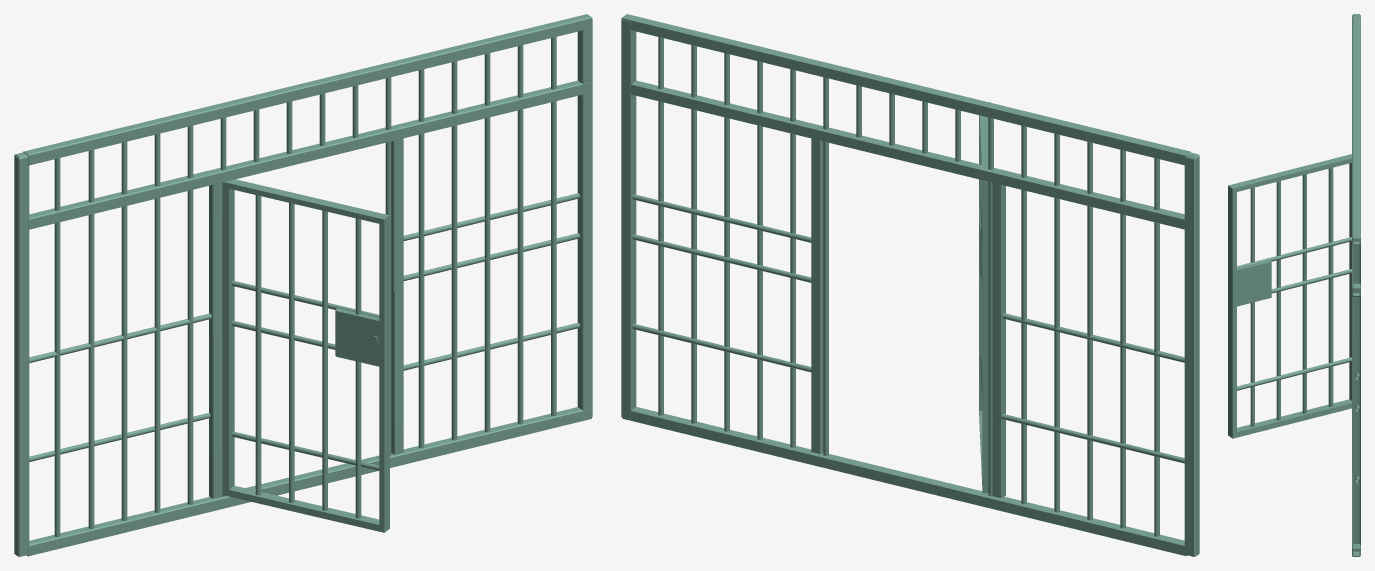
The model's file is SetopolySurface70.fbx.
3 renders of one model, left to right at view 1: azimuth 30°, elevation 25°; view 2: azimuth 150°, elevation 25°; view 3: azimuth 270°, elevation 25°, orthographic. The views are drawn at different scales.
Visible parts, largest first — view 1: polySurface70, CellDoor1; view 2: polySurface70, CellDoor1; view 3: CellDoor1, polySurface70.
Boxes of the visible parts, x1=… form: polySurface70: x1=14, y1=14, x2=592, y2=556; CellDoor1: x1=222, y1=179, x2=389, y2=532; polySurface70: x1=621, y1=14, x2=1199, y2=556; CellDoor1: x1=979, y1=102, x2=990, y2=493; CellDoor1: x1=1228, y1=154, x2=1352, y2=438; polySurface70: x1=1352, y1=14, x2=1360, y2=556.
Bounding box in the file's own units: 348 × 233 × 87.31.
